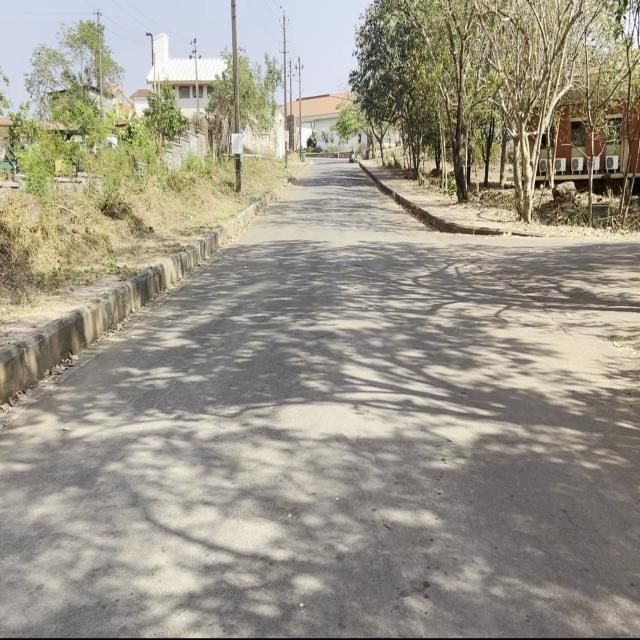Road: (6, 162, 637, 632)
